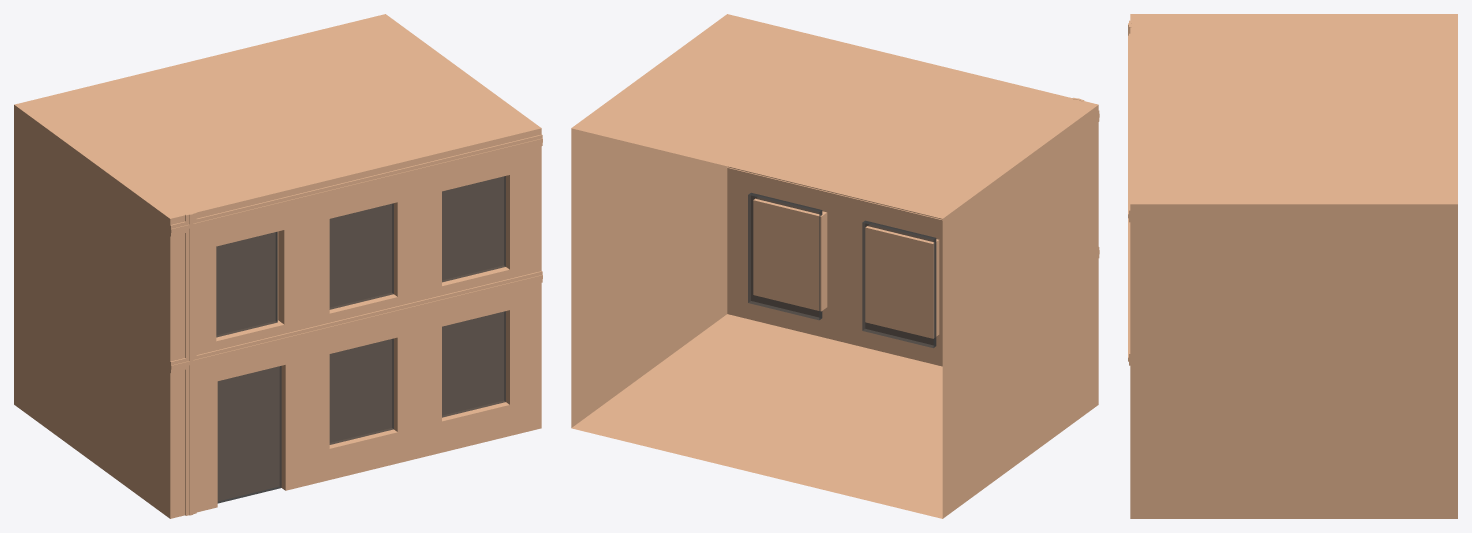
Rendered from edificio 3.fbx.
3 renders of one model, left to right at view 1: azimuth 30°, elevation 25°; view 2: azimuth 150°, elevation 25°; view 3: azimuth 270°, elevation 25°, orthographic. The views are drawn at different scales.
Parts seen in each view (by area): view 1: BASE, Ventanas y Puertas; view 2: BASE, Ventanas y Puertas; view 3: BASE.
Boxes of the visible parts, <box> form: BASE: <box>14,14,542,518</box>; Ventanas y Puertas: <box>216,176,505,503</box>; BASE: <box>571,14,1099,518</box>; Ventanas y Puertas: <box>748,192,936,348</box>; BASE: <box>1128,14,1457,518</box>.
Size of the model in its own units: 774 by 599 by 567.
